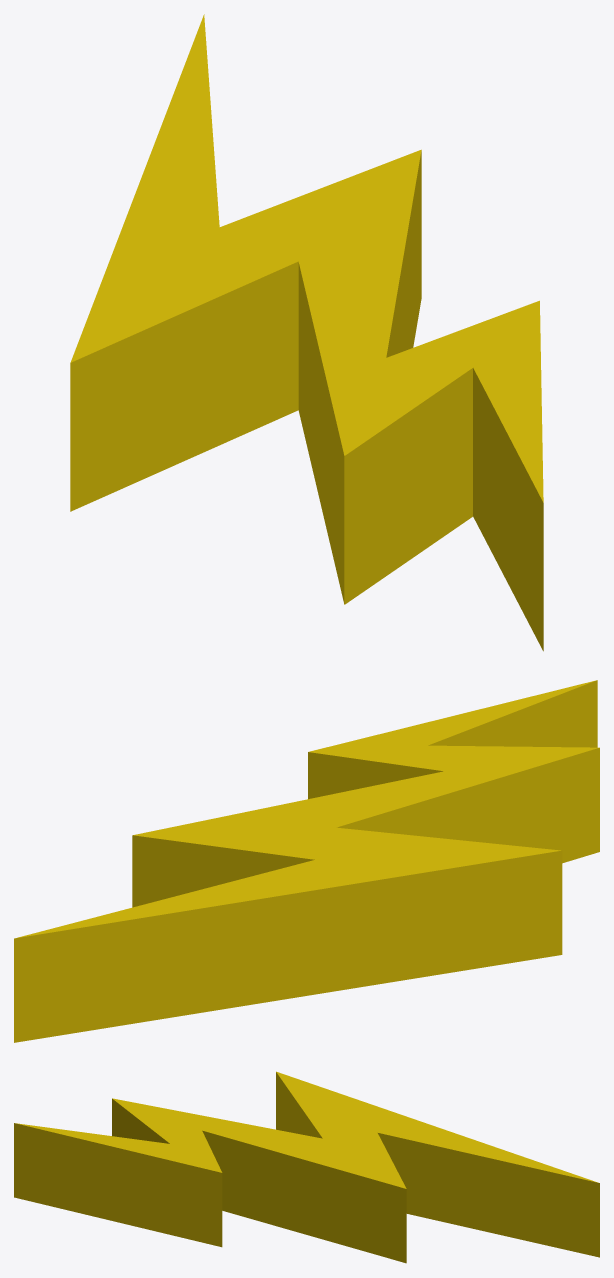
The model's file is Thunder_2.obj.
3 renders of one model, top to bottom at view 1: azimuth 30°, elevation 25°; view 2: azimuth 150°, elevation 25°; view 3: azimuth 270°, elevation 25°, orthographic. The views are drawn at different scales.
Parts seen in each view (by area): view 1: Thunder; view 2: Thunder; view 3: Thunder.
Boxes of the visible parts, x1,y1,x2,y2 form: Thunder: [70, 14, 543, 651]; Thunder: [14, 680, 599, 1042]; Thunder: [14, 1071, 599, 1263].
Size of the model in its own units: 9.69 by 2.86 by 20.4.
